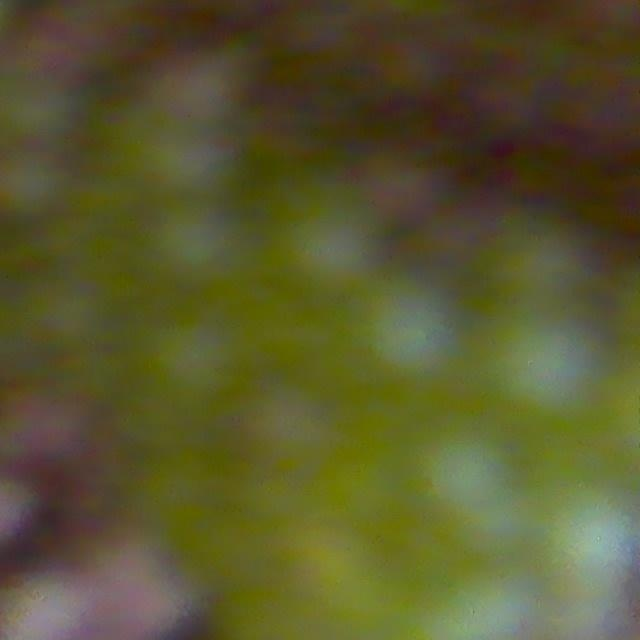SeaGrape: (478, 305, 603, 428), (348, 270, 464, 388), (402, 411, 520, 525), (274, 189, 384, 298), (539, 480, 640, 591), (502, 219, 595, 310), (146, 200, 240, 289), (445, 559, 542, 640), (0, 148, 70, 225)
